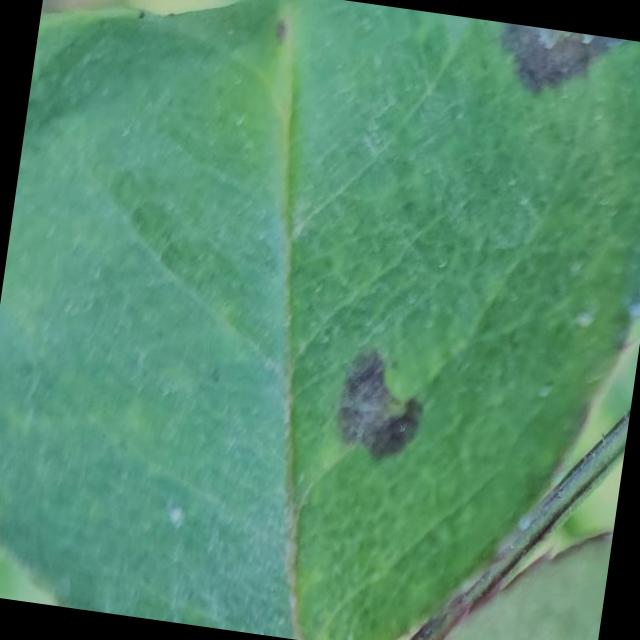Black_spot: (327, 344, 435, 470)
Rose: (0, 0, 640, 640)
